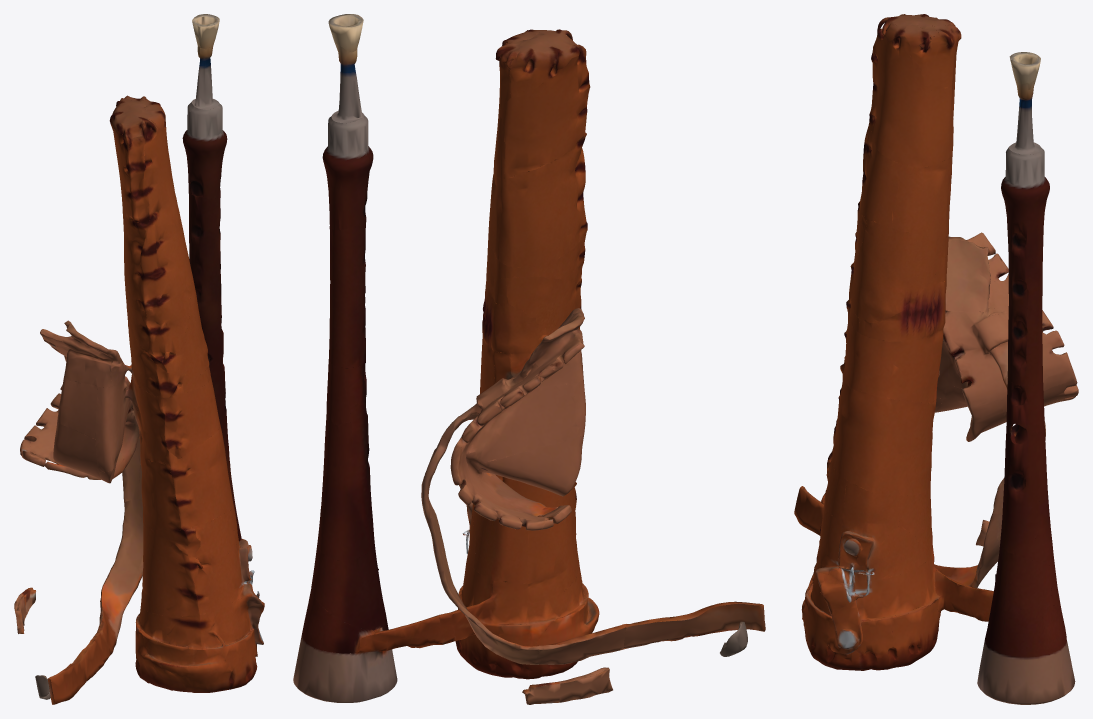
3 renders of one model, left to right at view 1: azimuth 30°, elevation 25°; view 2: azimuth 150°, elevation 25°; view 3: azimuth 270°, elevation 25°, orthographic. The views are drawn at different scales.
Parts seen in each view (by area): view 1: tripo_node_6ef73223-639a-4f2c-ad25-d36716722d5a; view 2: tripo_node_6ef73223-639a-4f2c-ad25-d36716722d5a; view 3: tripo_node_6ef73223-639a-4f2c-ad25-d36716722d5a.
Boxes of the visible parts, <box> form: tripo_node_6ef73223-639a-4f2c-ad25-d36716722d5a: <box>14,14,264,704</box>; tripo_node_6ef73223-639a-4f2c-ad25-d36716722d5a: <box>293,14,765,704</box>; tripo_node_6ef73223-639a-4f2c-ad25-d36716722d5a: <box>794,14,1078,704</box>.
Size of the model in its own units: 0.5398 by 1 by 0.4063.
1 material, 1 textured.
